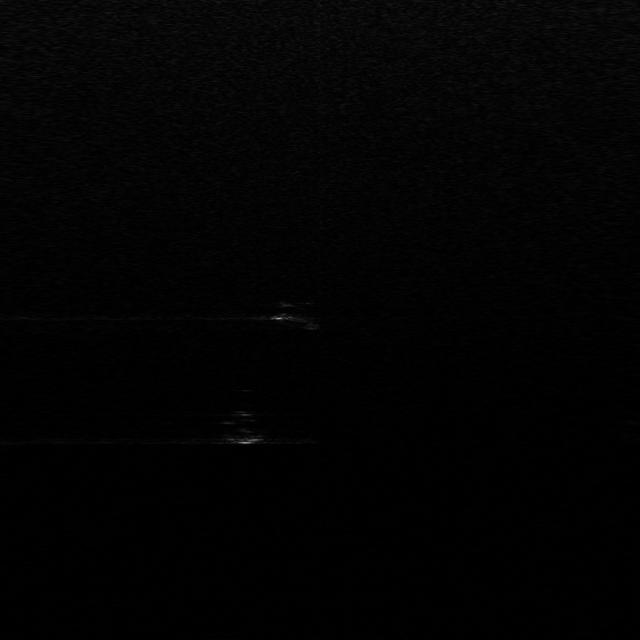ball: (221, 411, 268, 442)
tyre: (281, 300, 323, 331)
